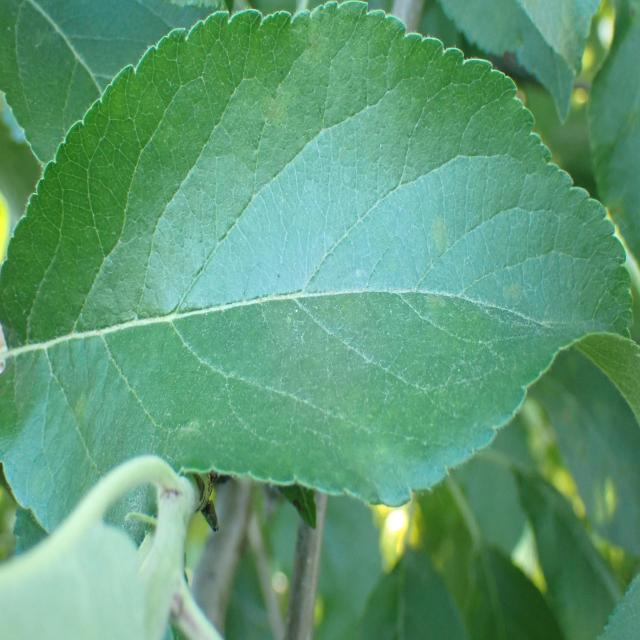scab: (106, 22, 547, 516)
